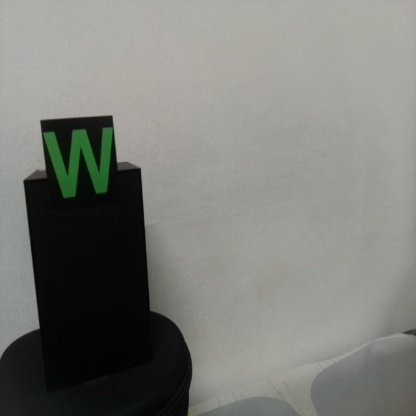id_12: (40, 119, 117, 212)
